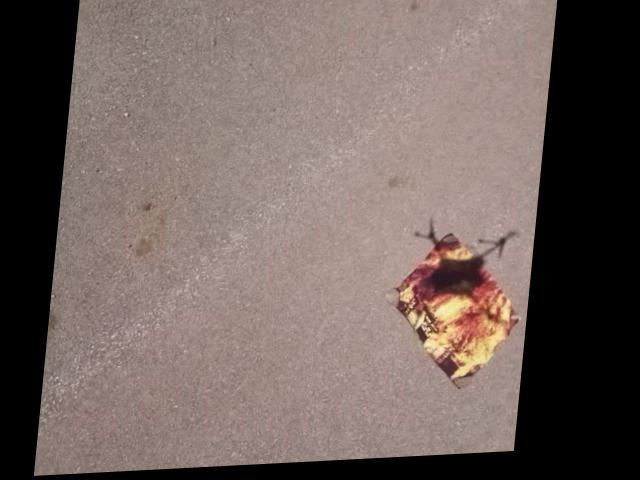fire-poster: (383, 230, 536, 398)
